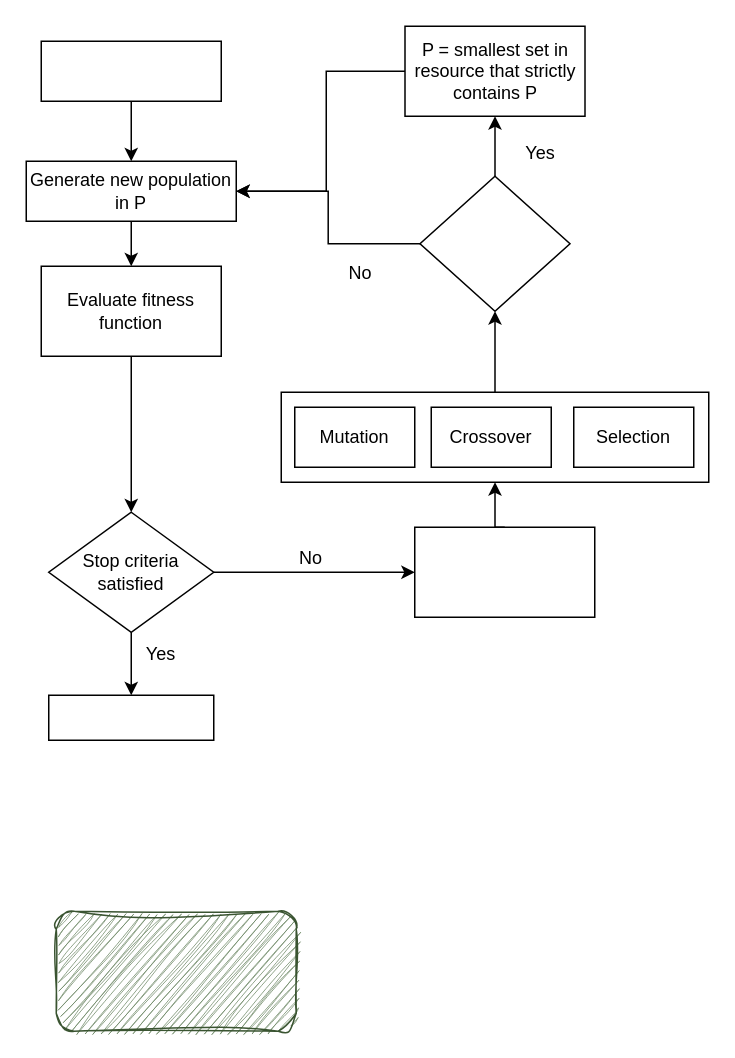
Some shapes in this 735 by 1058 pixel diagram are drawn without their labels. The box of each missing label's shape, as (x1, y1, x2, y2) in pixels:
No-Domained solutions: (47, 694, 214, 740)
P = Get smallest resource set: (40, 40, 221, 101)
Sorting based on crowded comparison operator: (413, 526, 595, 617)
Update criteria satisfied: (418, 175, 570, 311)
